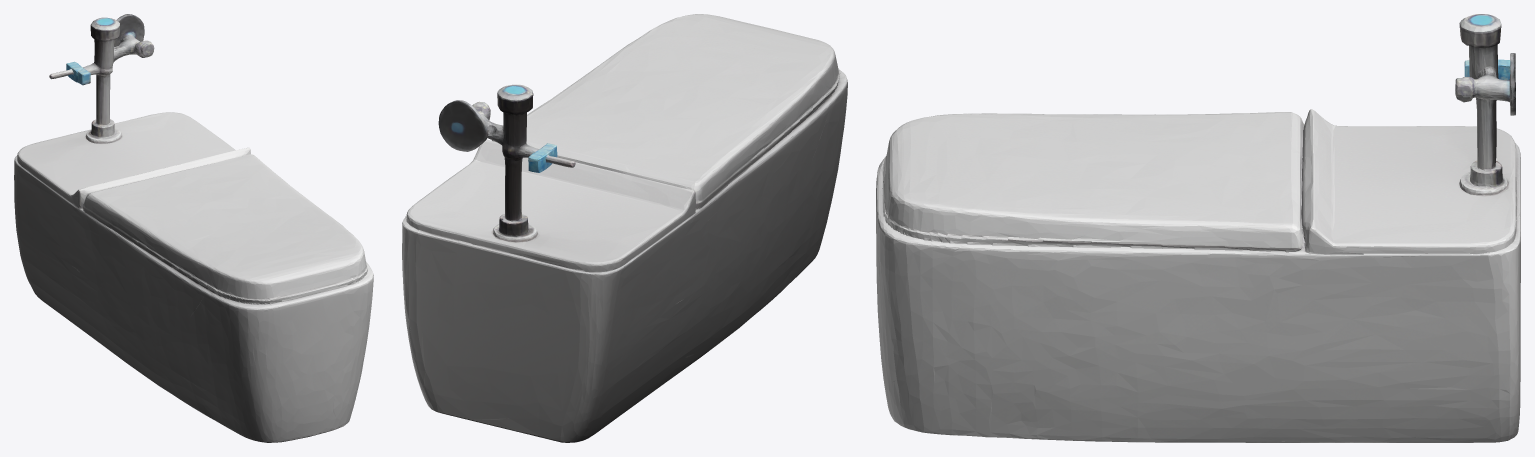
File: 0255354d-c4f6-4934-aae3-f32c7c5101db.glb
3 renders of one model, left to right at view 1: azimuth 30°, elevation 25°; view 2: azimuth 150°, elevation 25°; view 3: azimuth 270°, elevation 25°, orthographic. The views are drawn at different scales.
Parts seen in each view (by area): view 1: world; view 2: world; view 3: world.
Part boxes in pixels (x1,y1,x2,y2): world: (14,14,373,442); world: (402,14,847,442); world: (876,14,1520,442).
Size of the model in its own units: 0.447 by 0.6483 by 1.
1 material, 1 textured.
